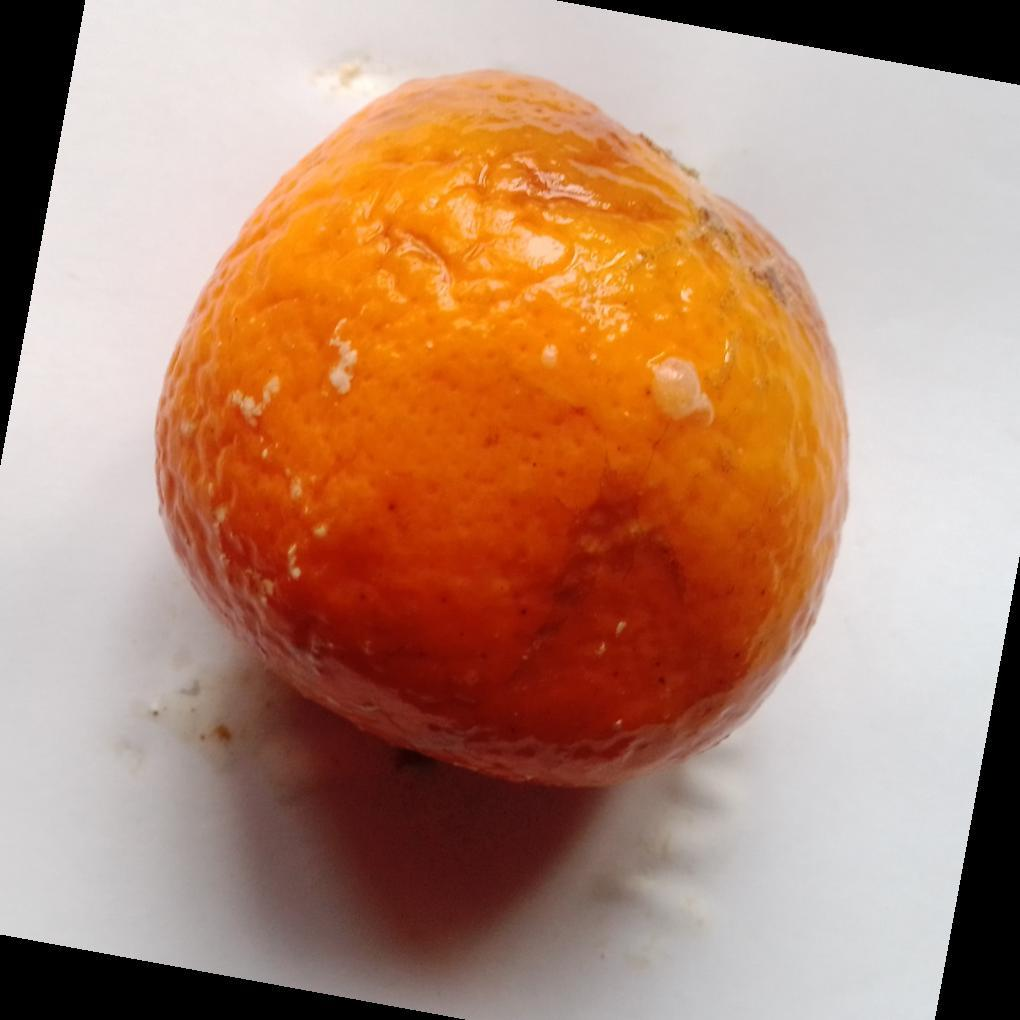FreshOrange: (152, 70, 851, 794)
